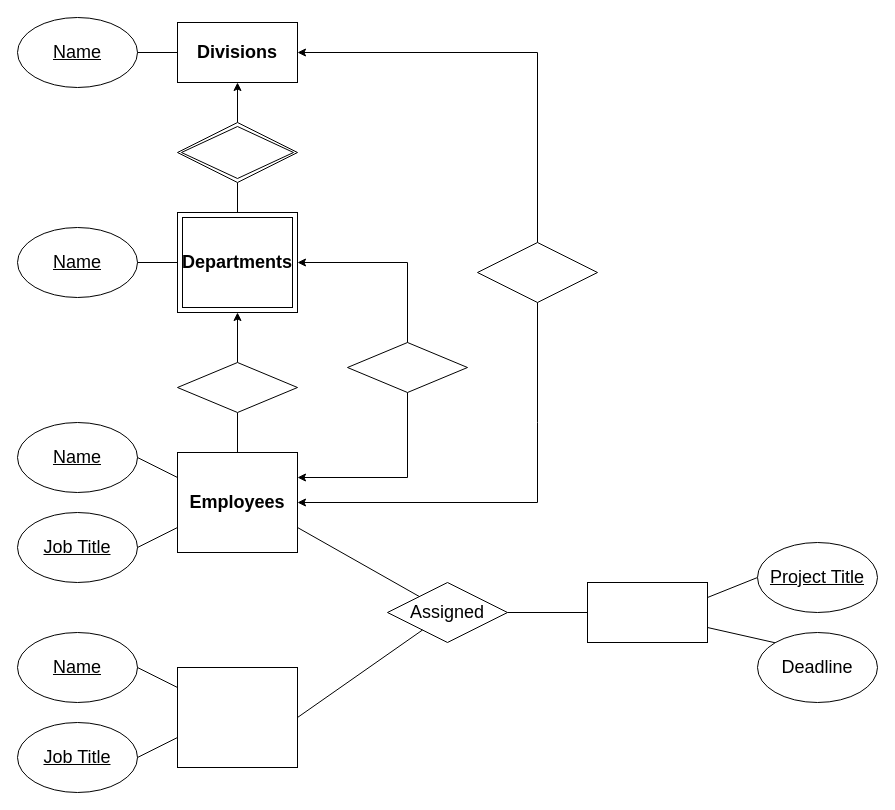
Image size: 895x810. Some labels were removed from this diagram. Here are the shapes that lost their labels. From the top down, the centre of each, then its label:
At point 237,152: "Operates".
At point 537,272: "Runs".
At point 237,387: "Employs".
At point 407,367: "Manages".
At point 647,612: "Projects".
At point 237,717: "Rovers".
